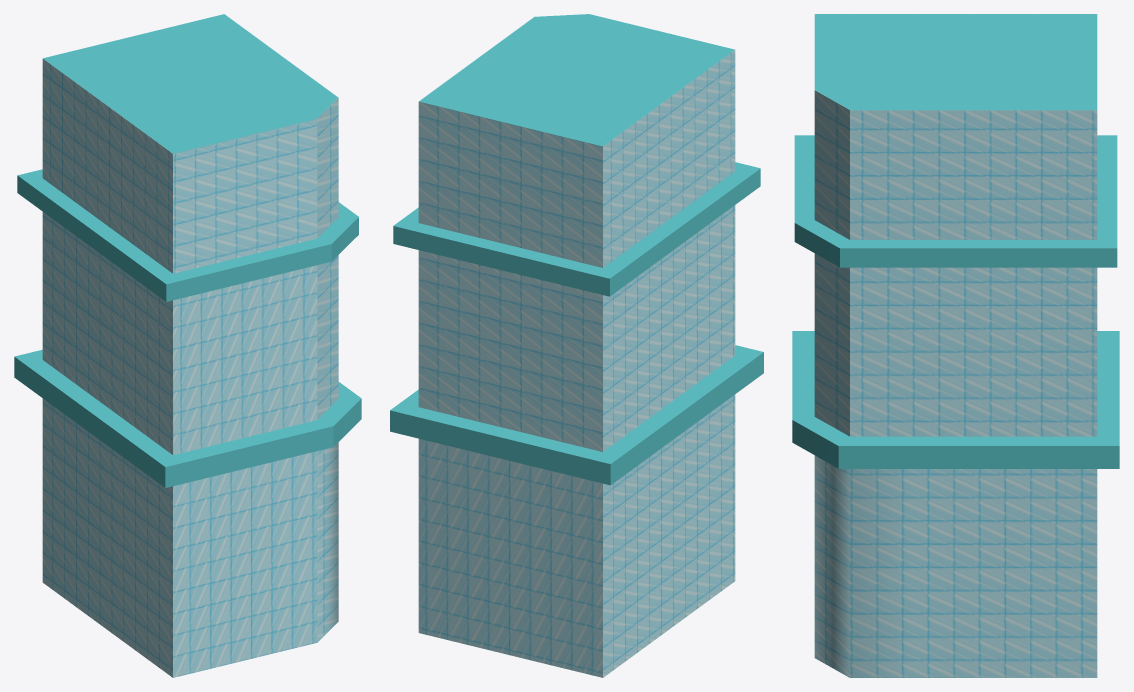
The model's file is bina3.fbx.
3 renders of one model, left to right at view 1: azimuth 30°, elevation 25°; view 2: azimuth 150°, elevation 25°; view 3: azimuth 270°, elevation 25°, orthographic. The views are drawn at different scales.
Parts seen in each view (by area): view 1: bina3_; view 2: bina3_; view 3: bina3_.
Part boxes in pixels (box(x1,y1,x2,y2)): bina3_: box(14, 14, 361, 677); bina3_: box(390, 14, 763, 677); bina3_: box(792, 14, 1119, 677).
Bounding box in the file's own units: 21.91 × 50.42 × 26.36.
